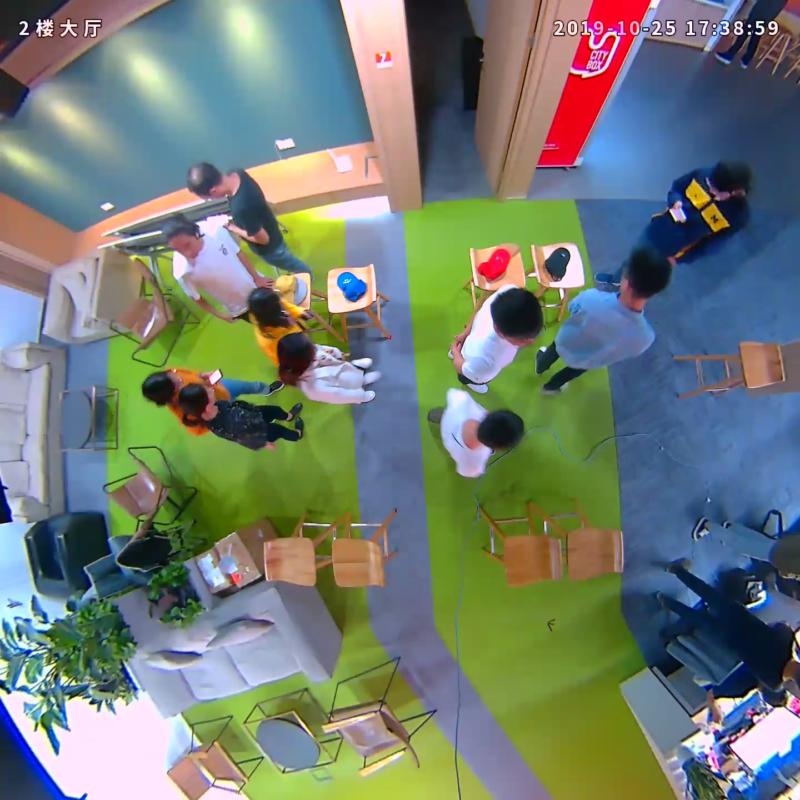head: (490, 288, 543, 348), (620, 248, 672, 301), (477, 408, 525, 452), (161, 215, 203, 259), (706, 161, 751, 199), (185, 162, 225, 202), (276, 331, 315, 368), (248, 285, 282, 323), (141, 369, 179, 403), (179, 382, 216, 416)
